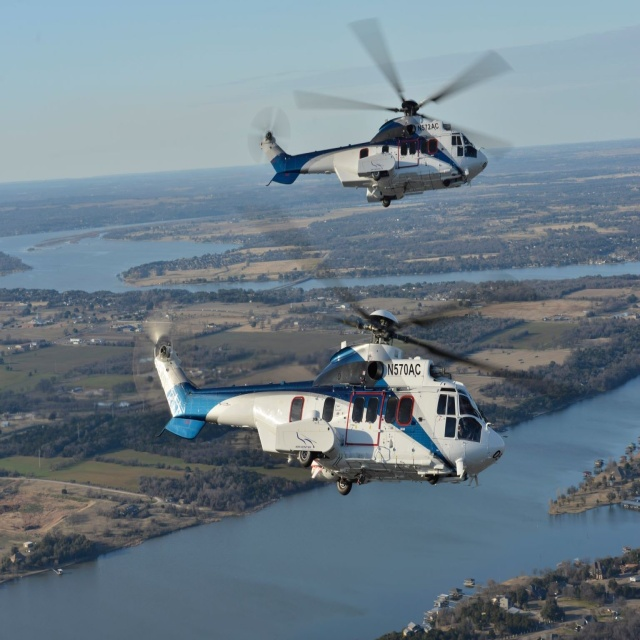helicopter: (136, 283, 508, 494), (252, 24, 508, 205)
